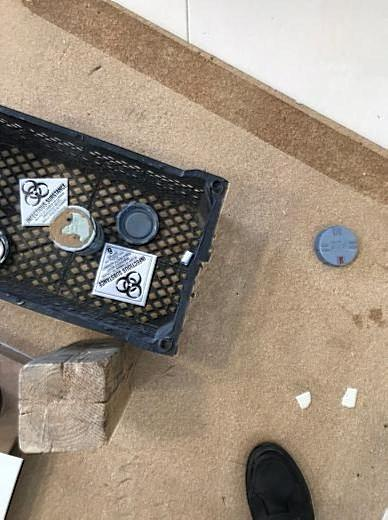infectious-substance: (89, 242, 158, 308), (20, 177, 70, 226)
